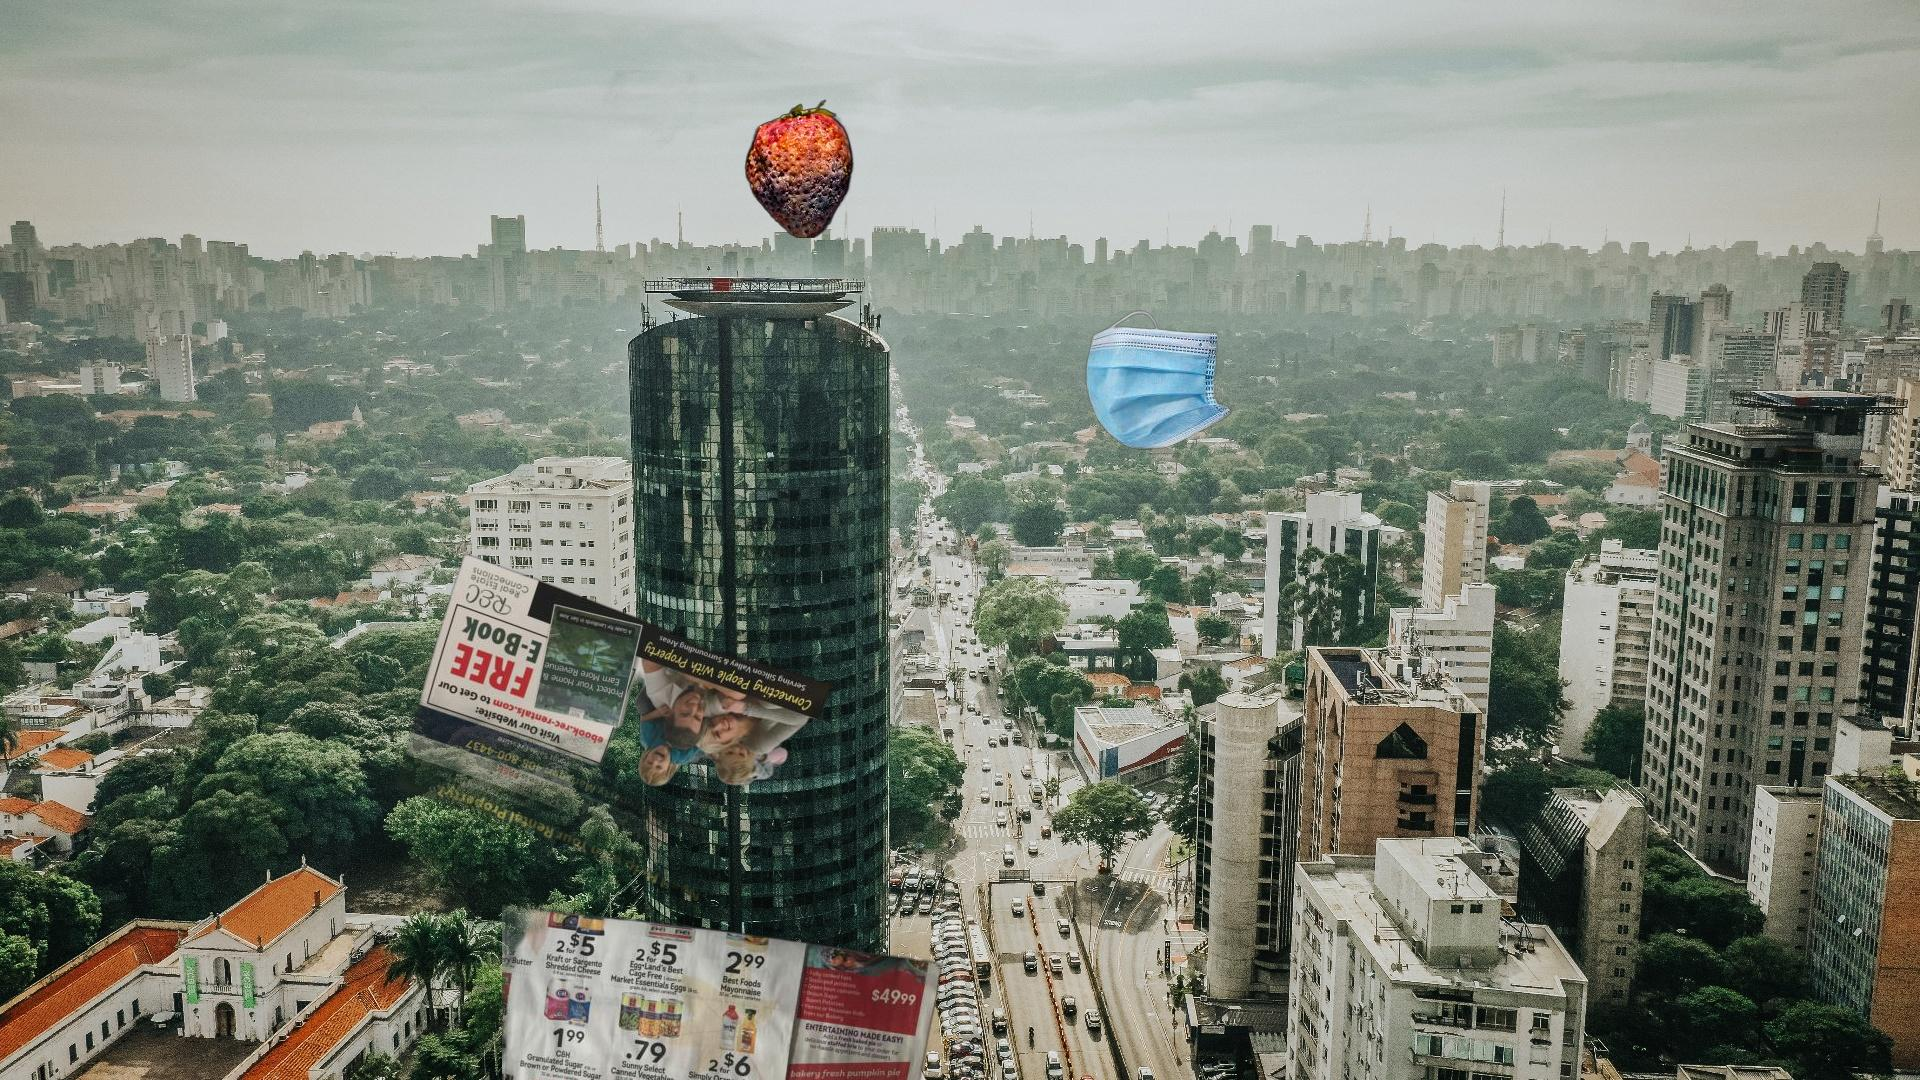biological: (585, 70, 855, 237)
clothes: (666, 1004, 996, 1080), (1917, 588, 1920, 1004)
paper: (390, 553, 835, 901), (502, 901, 947, 1080)
trash: (1083, 309, 1234, 452)
